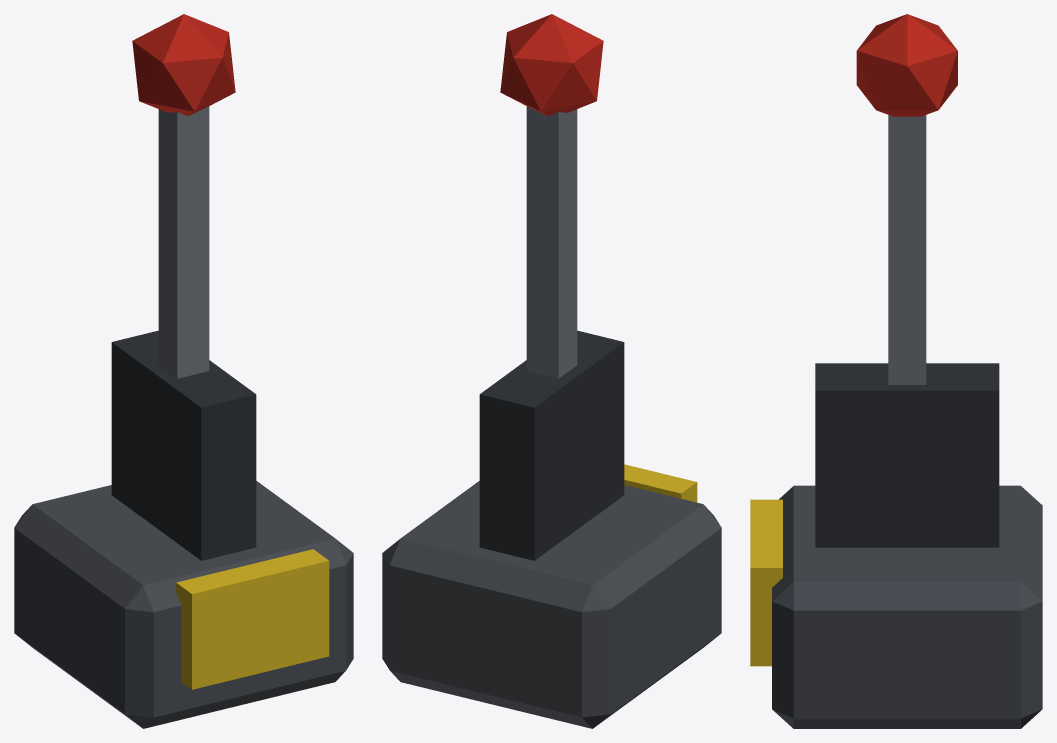
The model's file is env_lever.glb.
The picture shows the model from 3 angles, left to right: view 1: azimuth 30°, elevation 25°; view 2: azimuth 150°, elevation 25°; view 3: azimuth 270°, elevation 25°; orthographic projection. The views are drawn at different scales.
Parts seen in each view (by area): view 1: base, handle; view 2: base, handle; view 3: base, handle.
Boxes of the visible parts, box(x1,y1,x2,y2) form: base: box(14, 330, 353, 728); handle: box(132, 14, 235, 378); base: box(382, 330, 721, 728); handle: box(500, 14, 603, 378); base: box(750, 363, 1042, 728); handle: box(856, 14, 957, 384).
Bounding box in the file's own units: 0.5 × 1.36 × 0.54.
1 material, 1 textured.
